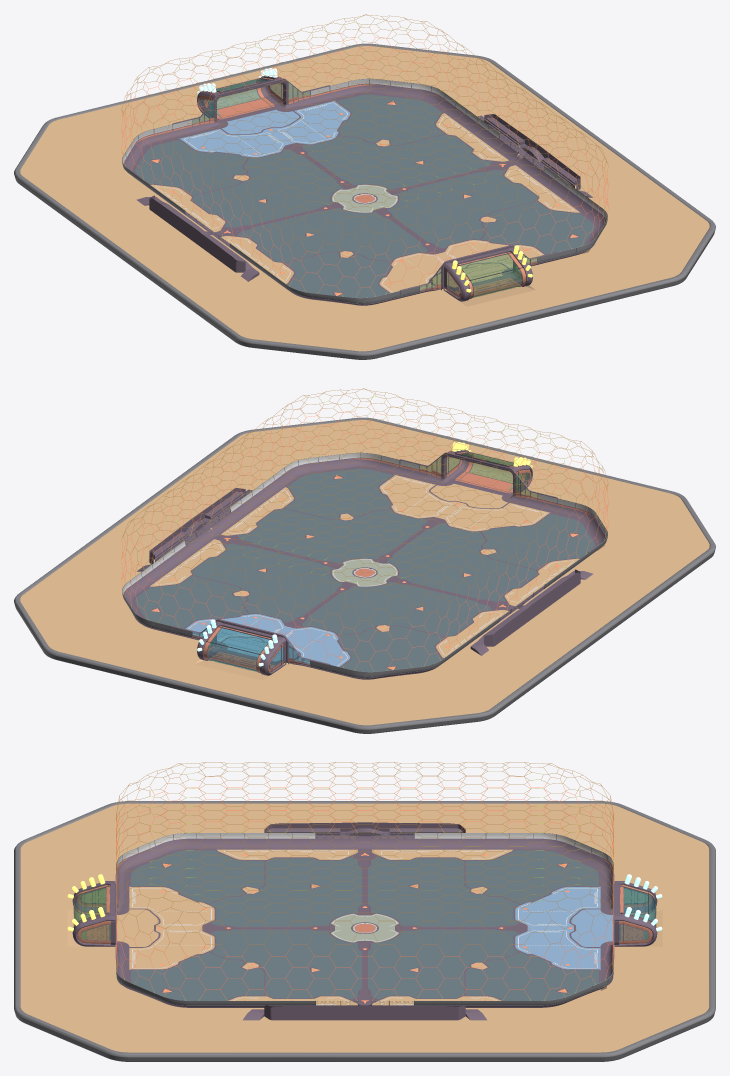
File: rlviser_stadium.glb
The picture shows the model from 3 angles, top to bottom: view 1: azimuth 30°, elevation 25°; view 2: azimuth 150°, elevation 25°; view 3: azimuth 270°, elevation 25°; orthographic projection. The views are drawn at different scales.
Visible parts, largest first — view 1: StaticMeshActor_SMC_409_65, StaticMeshActor_SMC_35_26, StaticMeshActor_SMC_36_28, StaticMeshActor_SMC_289_57, StaticMeshActor_SMC_42_38, StaticMeshActor_SMC_141_10, DynamicMeshActor_TA_18_2, StaticMeshActor_SMC_55_49, DynamicMeshActor_TA_0, DynamicMeshActor_TA_1_1, DynamicMeshActor_TA_2_3, StaticMeshActor_SMC_9_56 (+19 smaller); view 2: StaticMeshActor_SMC_409_65, StaticMeshActor_SMC_36_28, StaticMeshActor_SMC_35_26, StaticMeshActor_SMC_289_57, StaticMeshActor_SMC_55_49, StaticMeshActor_SMC_141_10, DynamicMeshActor_TA_1_1, StaticMeshActor_SMC_42_38, DynamicMeshActor_TA_2_3, DynamicMeshActor_TA_18_2, DynamicMeshActor_TA_0, StaticMeshActor_SMC_74_54 (+19 smaller); view 3: StaticMeshActor_SMC_409_65, StaticMeshActor_SMC_35_26, StaticMeshActor_SMC_36_28, StaticMeshActor_SMC_289_57, StaticMeshActor_SMC_42_38, StaticMeshActor_SMC_55_49, DynamicMeshActor_TA_0, DynamicMeshActor_TA_2_3, StaticMeshActor_SMC_141_10, DynamicMeshActor_TA_18_2, DynamicMeshActor_TA_1_1, StaticMeshActor_SMC_74_54 (+23 smaller).
Part boxes in pixels (x1,y1,x2,y2): StaticMeshActor_SMC_409_65: (20,46,709,351); StaticMeshActor_SMC_35_26: (135,94,492,227); StaticMeshActor_SMC_36_28: (237,170,594,297); StaticMeshActor_SMC_289_57: (14,43,715,359); StaticMeshActor_SMC_42_38: (179,100,350,157); StaticMeshActor_SMC_141_10: (151,101,579,295); DynamicMeshActor_TA_18_2: (207,118,478,296); StaticMeshActor_SMC_55_49: (379,240,544,292); DynamicMeshActor_TA_0: (371,82,608,256); DynamicMeshActor_TA_1_1: (121,40,357,224); DynamicMeshActor_TA_2_3: (251,14,522,147); StaticMeshActor_SMC_9_56: (123,85,517,232); StaticMeshActor_SMC_409_65: (20,420,709,725); StaticMeshActor_SMC_36_28: (237,468,594,601); StaticMeshActor_SMC_35_26: (135,544,492,671); StaticMeshActor_SMC_289_57: (14,417,715,733); StaticMeshActor_SMC_55_49: (379,474,550,531); StaticMeshActor_SMC_141_10: (150,475,578,669); DynamicMeshActor_TA_1_1: (251,492,522,671); StaticMeshActor_SMC_42_38: (185,614,350,666); DynamicMeshActor_TA_2_3: (121,456,357,630); DynamicMeshActor_TA_18_2: (372,414,608,597); DynamicMeshActor_TA_0: (207,388,478,521); StaticMeshActor_SMC_74_54: (212,459,606,606); StaticMeshActor_SMC_409_65: (20,803,709,1052); StaticMeshActor_SMC_35_26: (368,850,598,1000); StaticMeshActor_SMC_36_28: (131,850,361,1000); StaticMeshActor_SMC_289_57: (14,801,715,1061); StaticMeshActor_SMC_42_38: (515,886,612,969); StaticMeshActor_SMC_55_49: (117,886,214,969); DynamicMeshActor_TA_0: (116,837,364,1000); DynamicMeshActor_TA_2_3: (365,837,613,1000); StaticMeshActor_SMC_141_10: (162,849,567,1005); DynamicMeshActor_TA_18_2: (116,762,364,866); DynamicMeshActor_TA_1_1: (365,762,613,866); StaticMeshActor_SMC_74_54: (116,838,357,1007).
Bounding box in the file's own units: 12448 × 2234 × 14496.
Materials: 48 (8 with a texture image).
